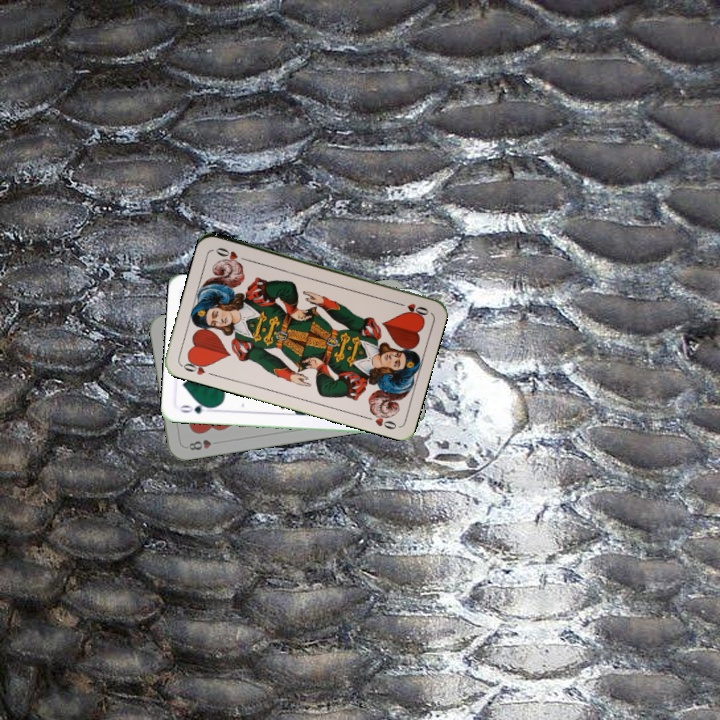GO: (175, 399, 216, 416)
H8: (185, 435, 214, 453)
HO: (178, 355, 218, 379), (392, 298, 432, 317)
